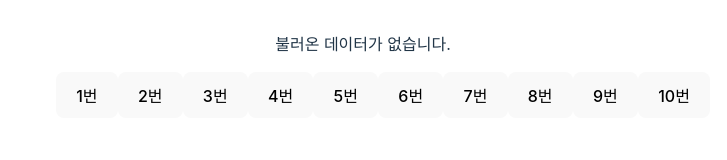
Test: FetchComponent 테스트 › 버튼 클릭 후 서버 에러가 발생하면 에러문구를 노출한다
The image size is (727, 160).
Click the button "1번": [87, 95] box [56,72,118,118]
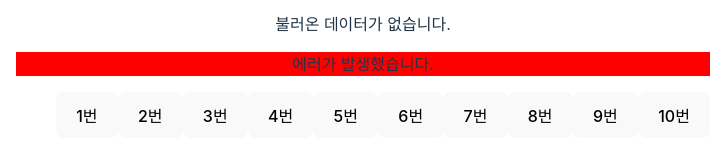
Result: the text "에러가 발생했습니다." is shown at [16,52,710,76]
